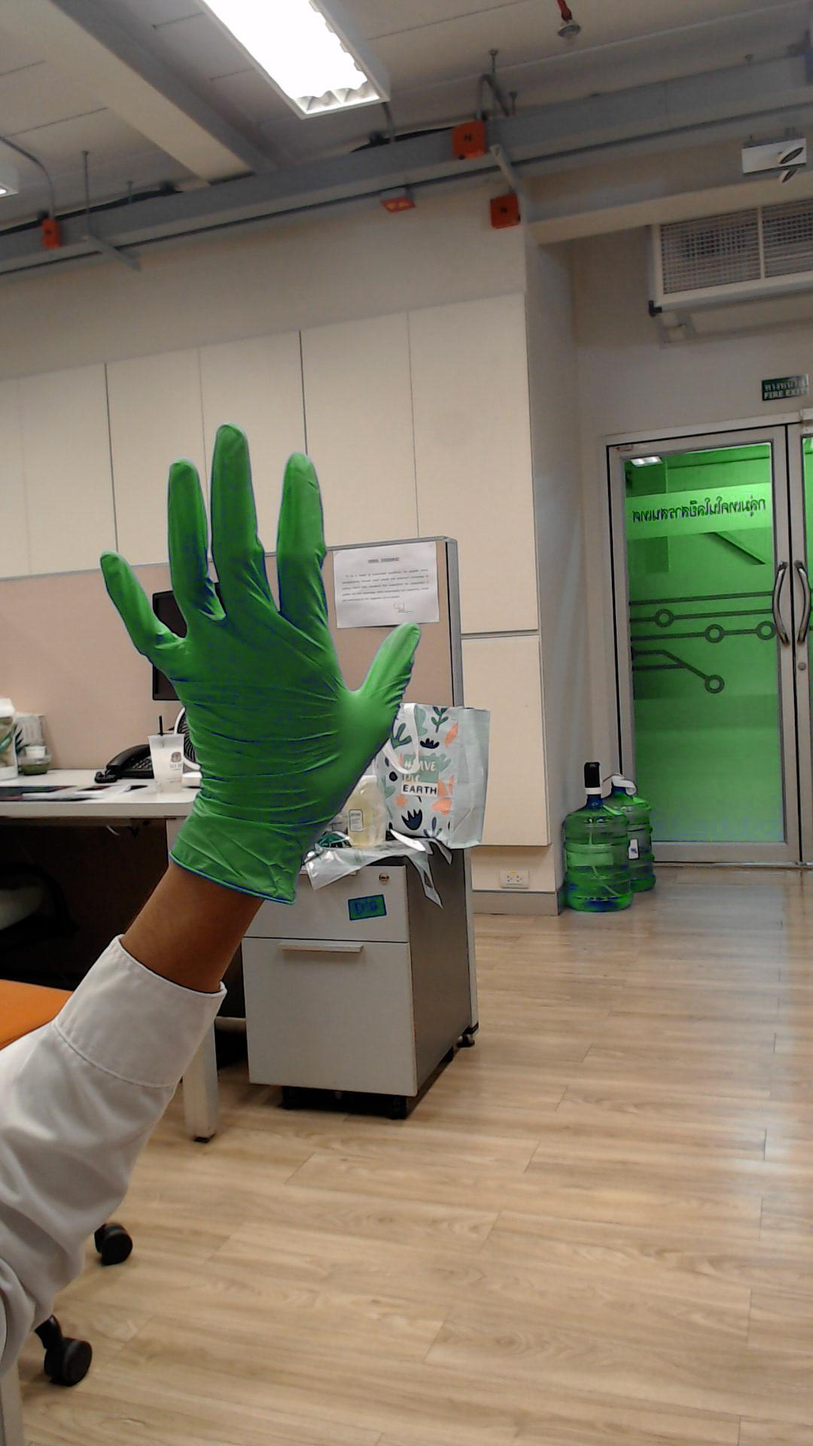gloves: (92, 410, 434, 828)
